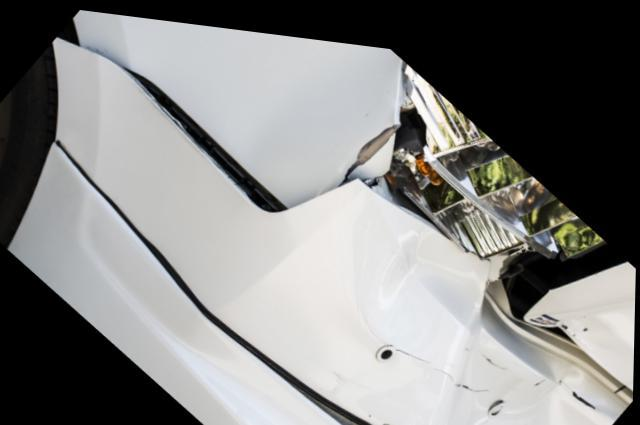crack: (337, 113, 396, 178)
dent: (349, 187, 578, 425), (534, 285, 636, 376)
dislocated part: (9, 33, 634, 425)
lamp broken: (387, 50, 615, 287)
